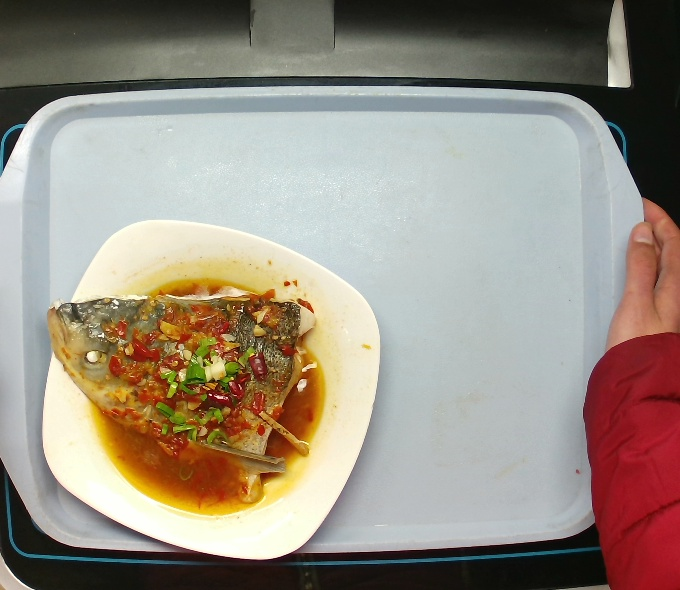wcq-DuoJiaoYuTou: (31, 266, 328, 533)
